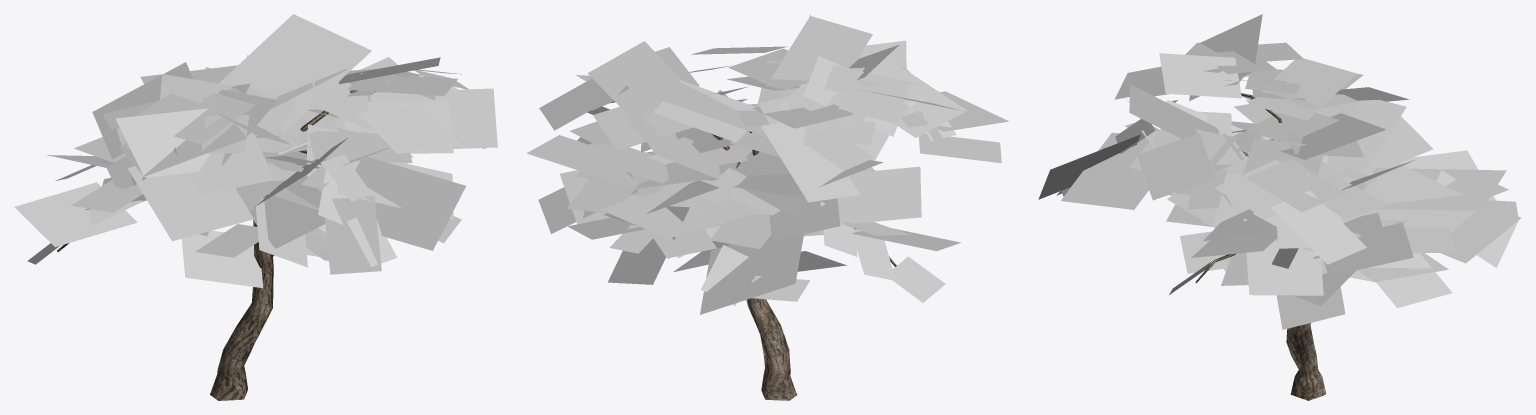
File: tree_19.FBX
3 views of the same model, side by side, from view 1: azimuth 30°, elevation 25°; view 2: azimuth 150°, elevation 25°; view 3: azimuth 270°, elevation 25° (orthographic). The views are drawn at different scales.
Visible parts, largest first — view 1: 对象116; view 2: 对象116; view 3: 对象116.
Boxes of the visible parts, x1=… form: 对象116: x1=14, y1=14, x2=497, y2=400; 对象116: x1=526, y1=14, x2=1009, y2=400; 对象116: x1=1038, y1=14, x2=1521, y2=400.
Bounding box in the file's own units: 356 × 252 × 350.
